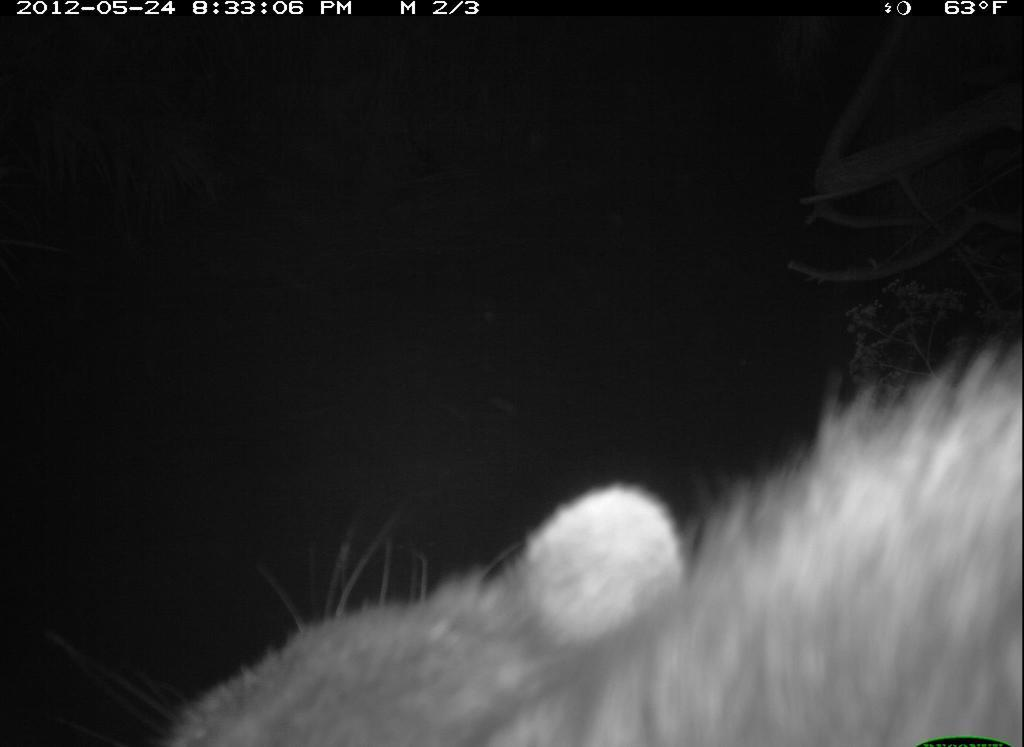raccoon: (148, 345, 1024, 727)
